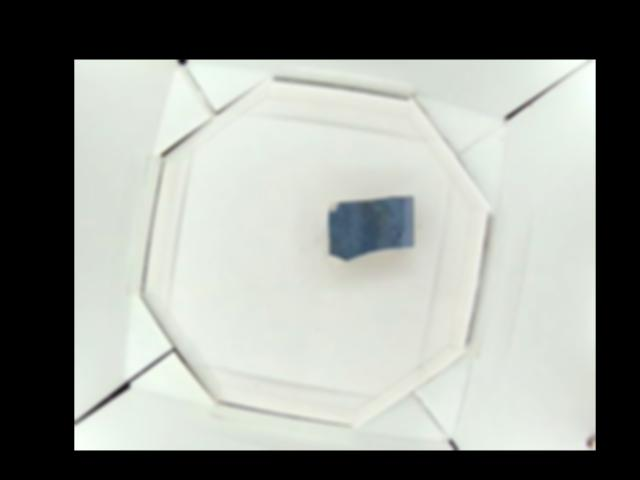China: (328, 193, 415, 261)
